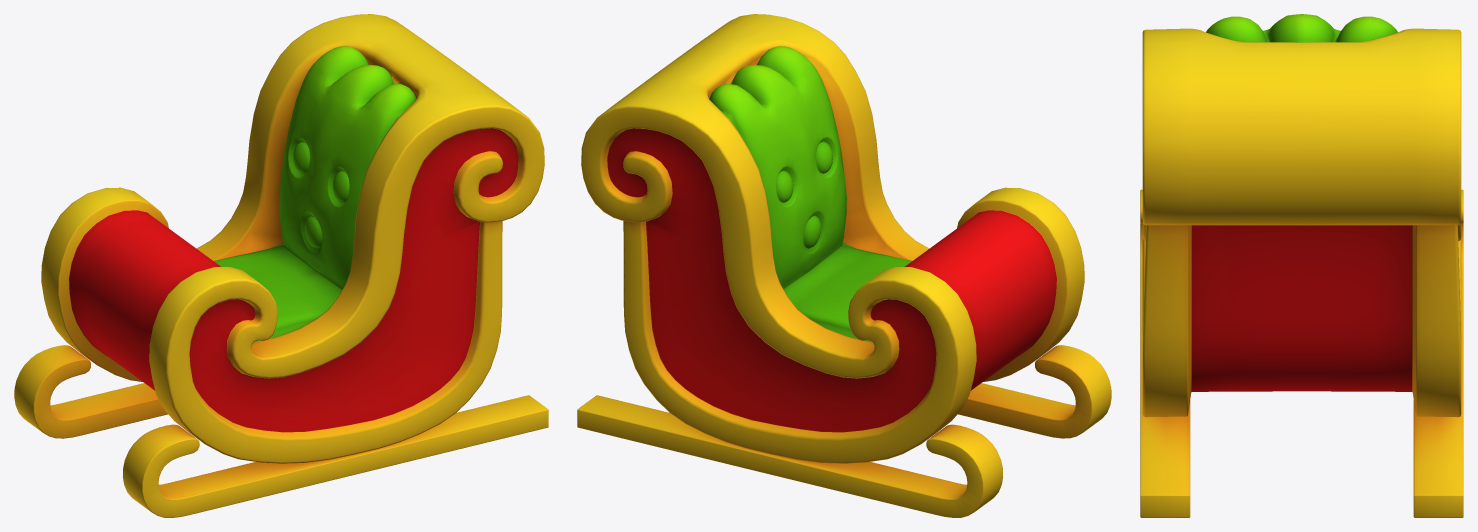
File: qizi_04.FBX
The picture shows the model from 3 angles, left to right: view 1: azimuth 30°, elevation 25°; view 2: azimuth 150°, elevation 25°; view 3: azimuth 270°, elevation 25°; orthographic projection. The views are drawn at different scales.
Parts seen in each view (by area): view 1: qizi_04; view 2: qizi_04; view 3: qizi_04.
Boxes of the visible parts, x1=… form: qizi_04: x1=14, y1=14, x2=548, y2=517; qizi_04: x1=577, y1=14, x2=1111, y2=517; qizi_04: x1=1140, y1=14, x2=1463, y2=517.
Bounding box in the file's own units: 103 × 82.86 × 56.44.
1 material, 1 textured.
